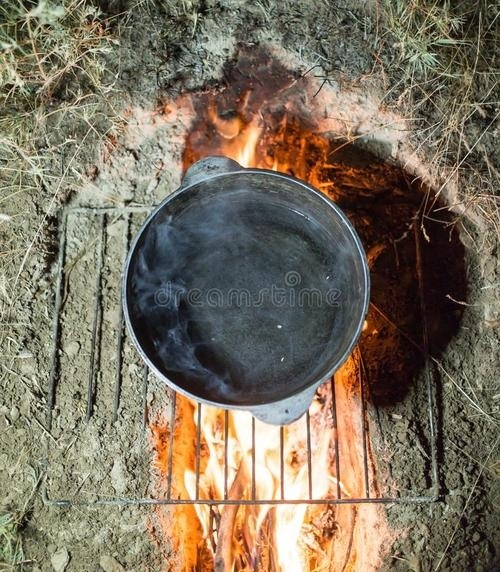fire: (164, 396, 366, 571), (163, 83, 346, 196)
